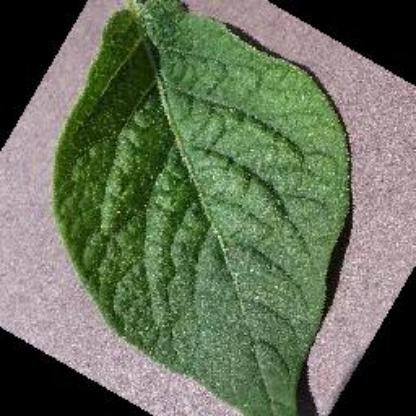Healthy-plant: (51, 0, 355, 416)
